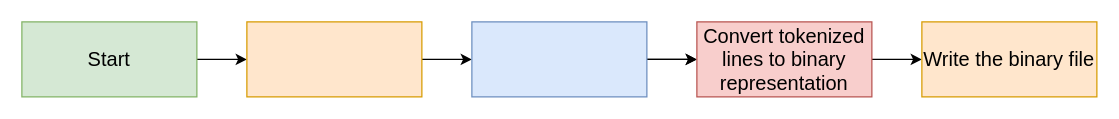
Image size: 1119x119. Some labels were removed from this diagram. Each missing label, with the centre of its shape:
Convert separate lines to tokens: [559,59]
Read Assembly File: [334,59]
